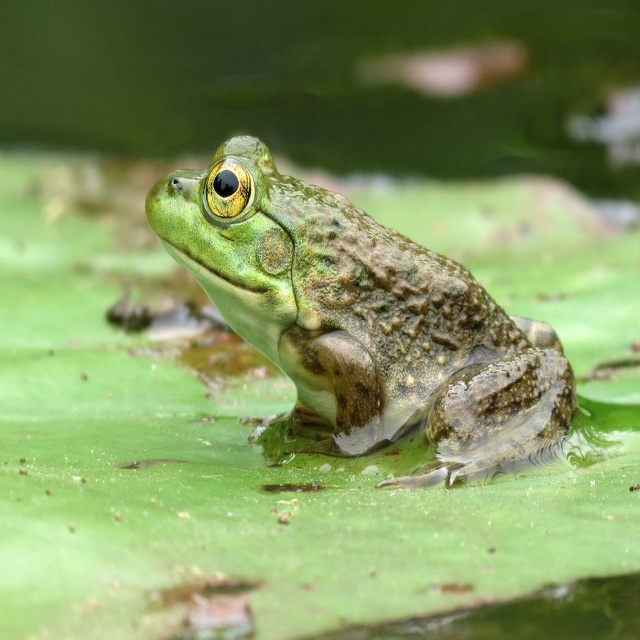Frog: (142, 132, 576, 491)
